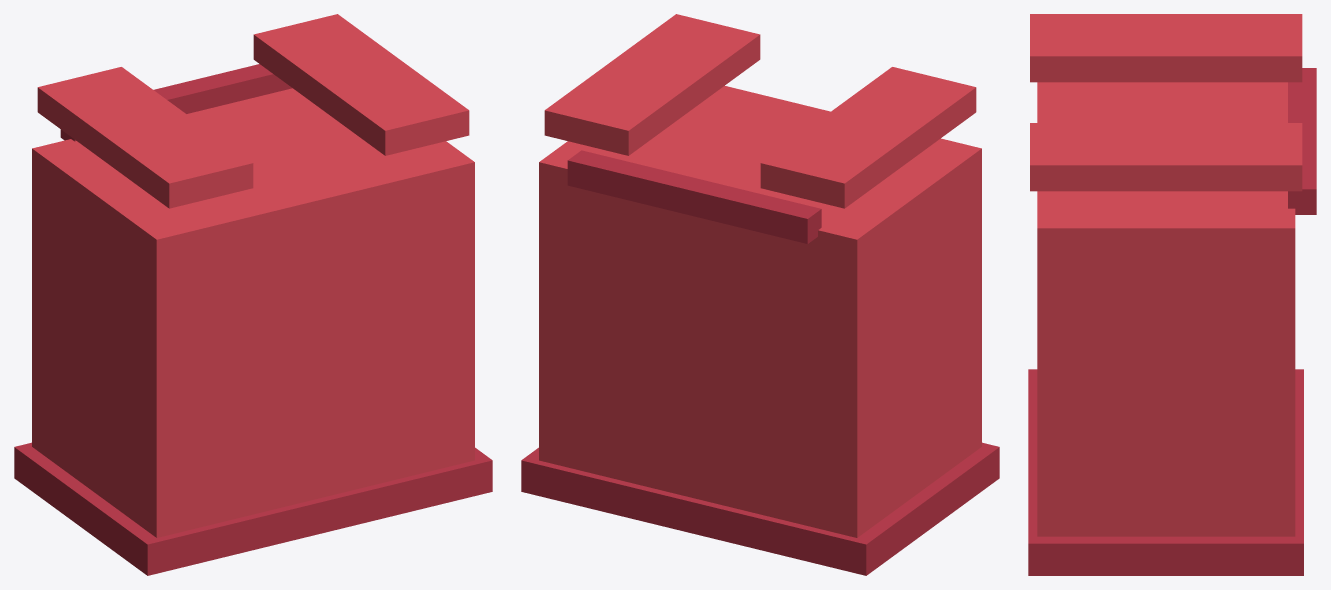
File: flamenco_tronco.glb
3 views of the same model, side by side, from view 1: azimuth 30°, elevation 25°; view 2: azimuth 150°, elevation 25°; view 3: azimuth 270°, elevation 25° (orthographic). The views are drawn at different scales.
Visible parts, largest first — view 1: flamenco_tronco; view 2: flamenco_tronco; view 3: flamenco_tronco.
Boxes of the visible parts, box(x1,y1,x2,y2) form: flamenco_tronco: box(14, 14, 492, 575); flamenco_tronco: box(521, 14, 999, 575); flamenco_tronco: box(1028, 14, 1316, 575).
Size of the model in its own units: 0.575 by 0.615 by 0.4025.
